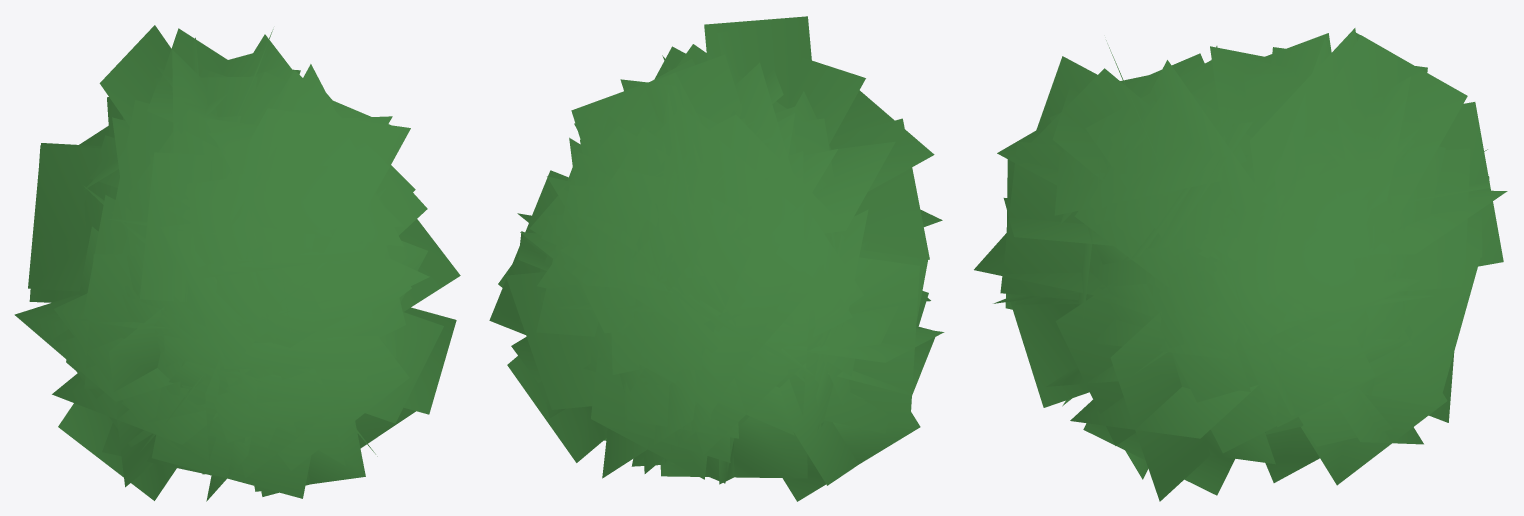
Rendered from bush.glb.
The picture shows the model from 3 angles, left to right: view 1: azimuth 30°, elevation 25°; view 2: azimuth 150°, elevation 25°; view 3: azimuth 270°, elevation 25°; orthographic projection. The views are drawn at different scales.
Parts seen in each view (by area): view 1: Node; view 2: Node; view 3: Node.
Boxes of the visible parts, x1=… form: Node: x1=14, y1=25, x2=460, y2=501; Node: x1=489, y1=16, x2=944, y2=501; Node: x1=974, y1=28, x2=1507, y2=501.
Size of the model in its own units: 1.5 by 1.54 by 1.68.
